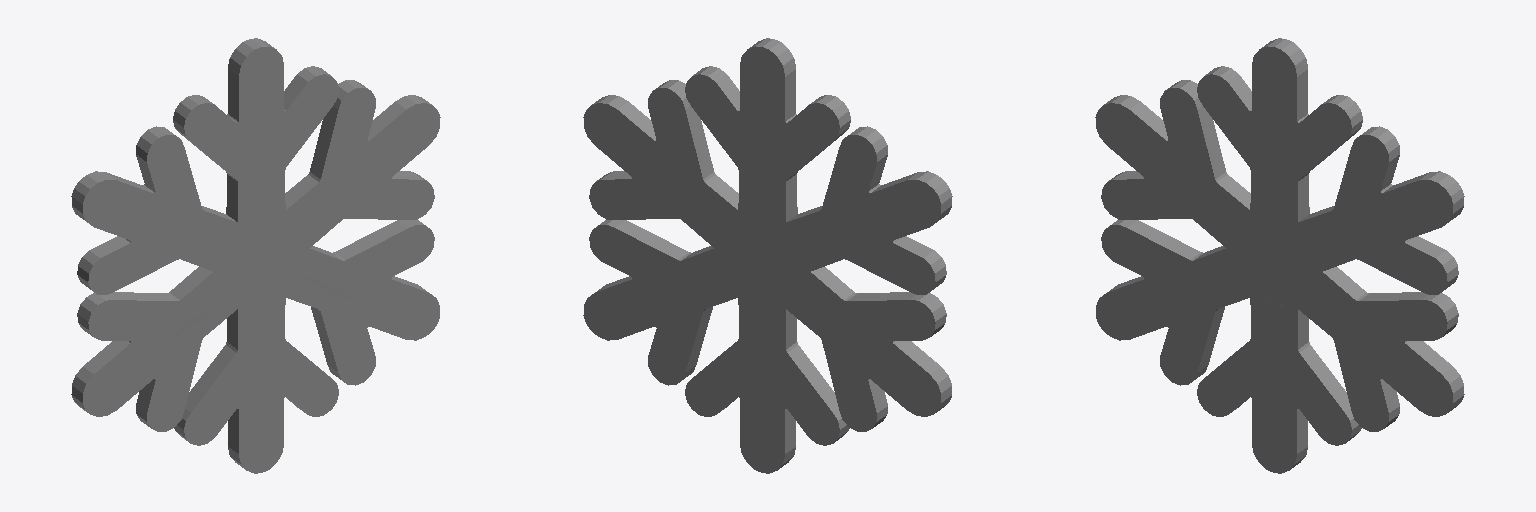
Rendered from Snowflake.obj.
3 renders of one model, left to right at view 1: azimuth 30°, elevation 25°; view 2: azimuth 150°, elevation 25°; view 3: azimuth 330°, elevation 25°, orthographic.
Parts seen in each view (by area): view 1: Snowflake; view 2: Snowflake; view 3: Snowflake.
Part boxes in pixels (x1,y1,x2,y2): Snowflake: (71, 38, 440, 473); Snowflake: (583, 38, 952, 473); Snowflake: (1095, 38, 1464, 473).
Size of the model in its own units: 1.09 by 1.25 by 0.0591.